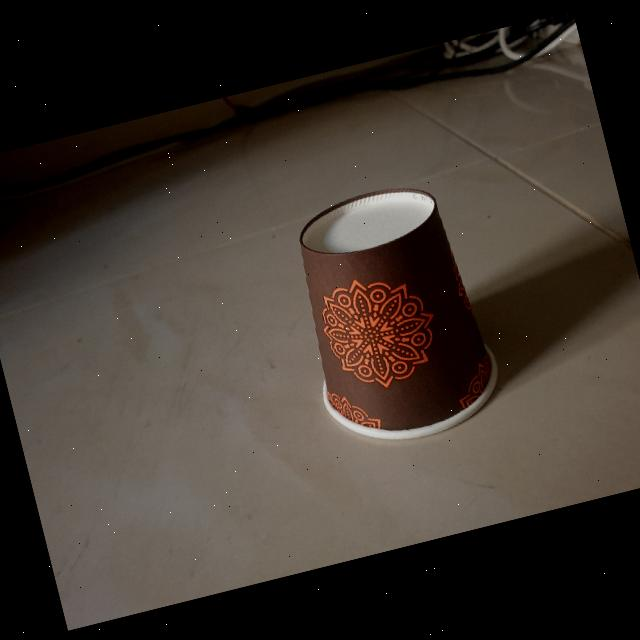trash: (272, 166, 512, 462)
